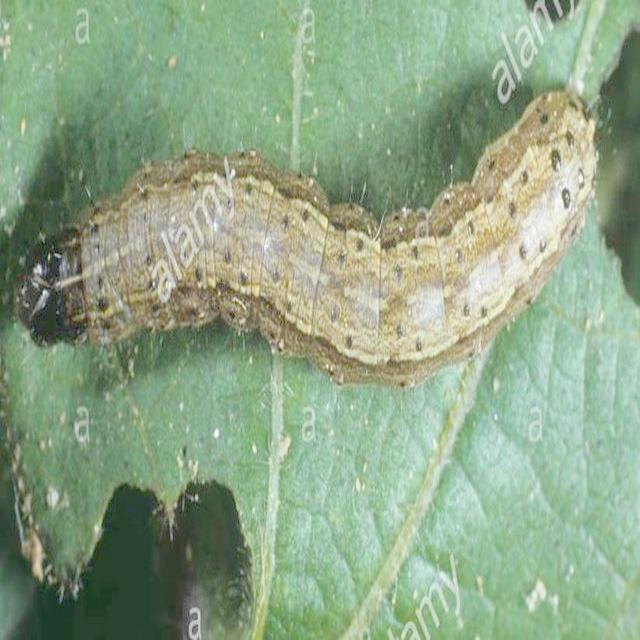gusano_cogollero: (20, 80, 600, 387)
